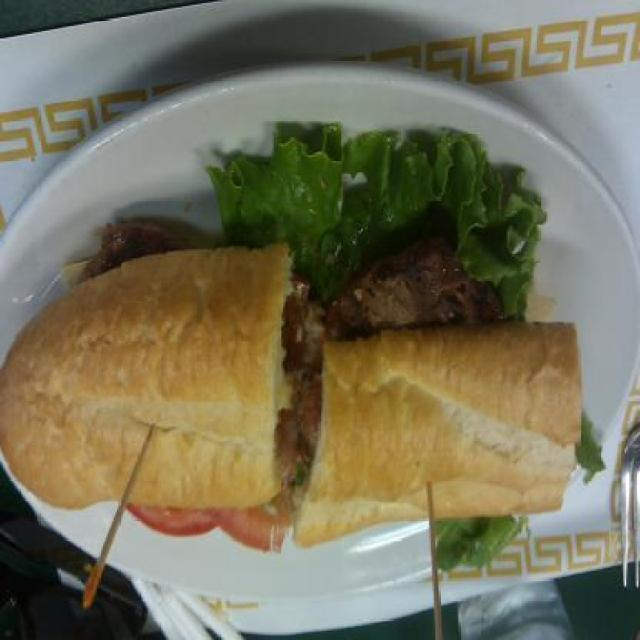Sandwich: (0, 125, 582, 552)
